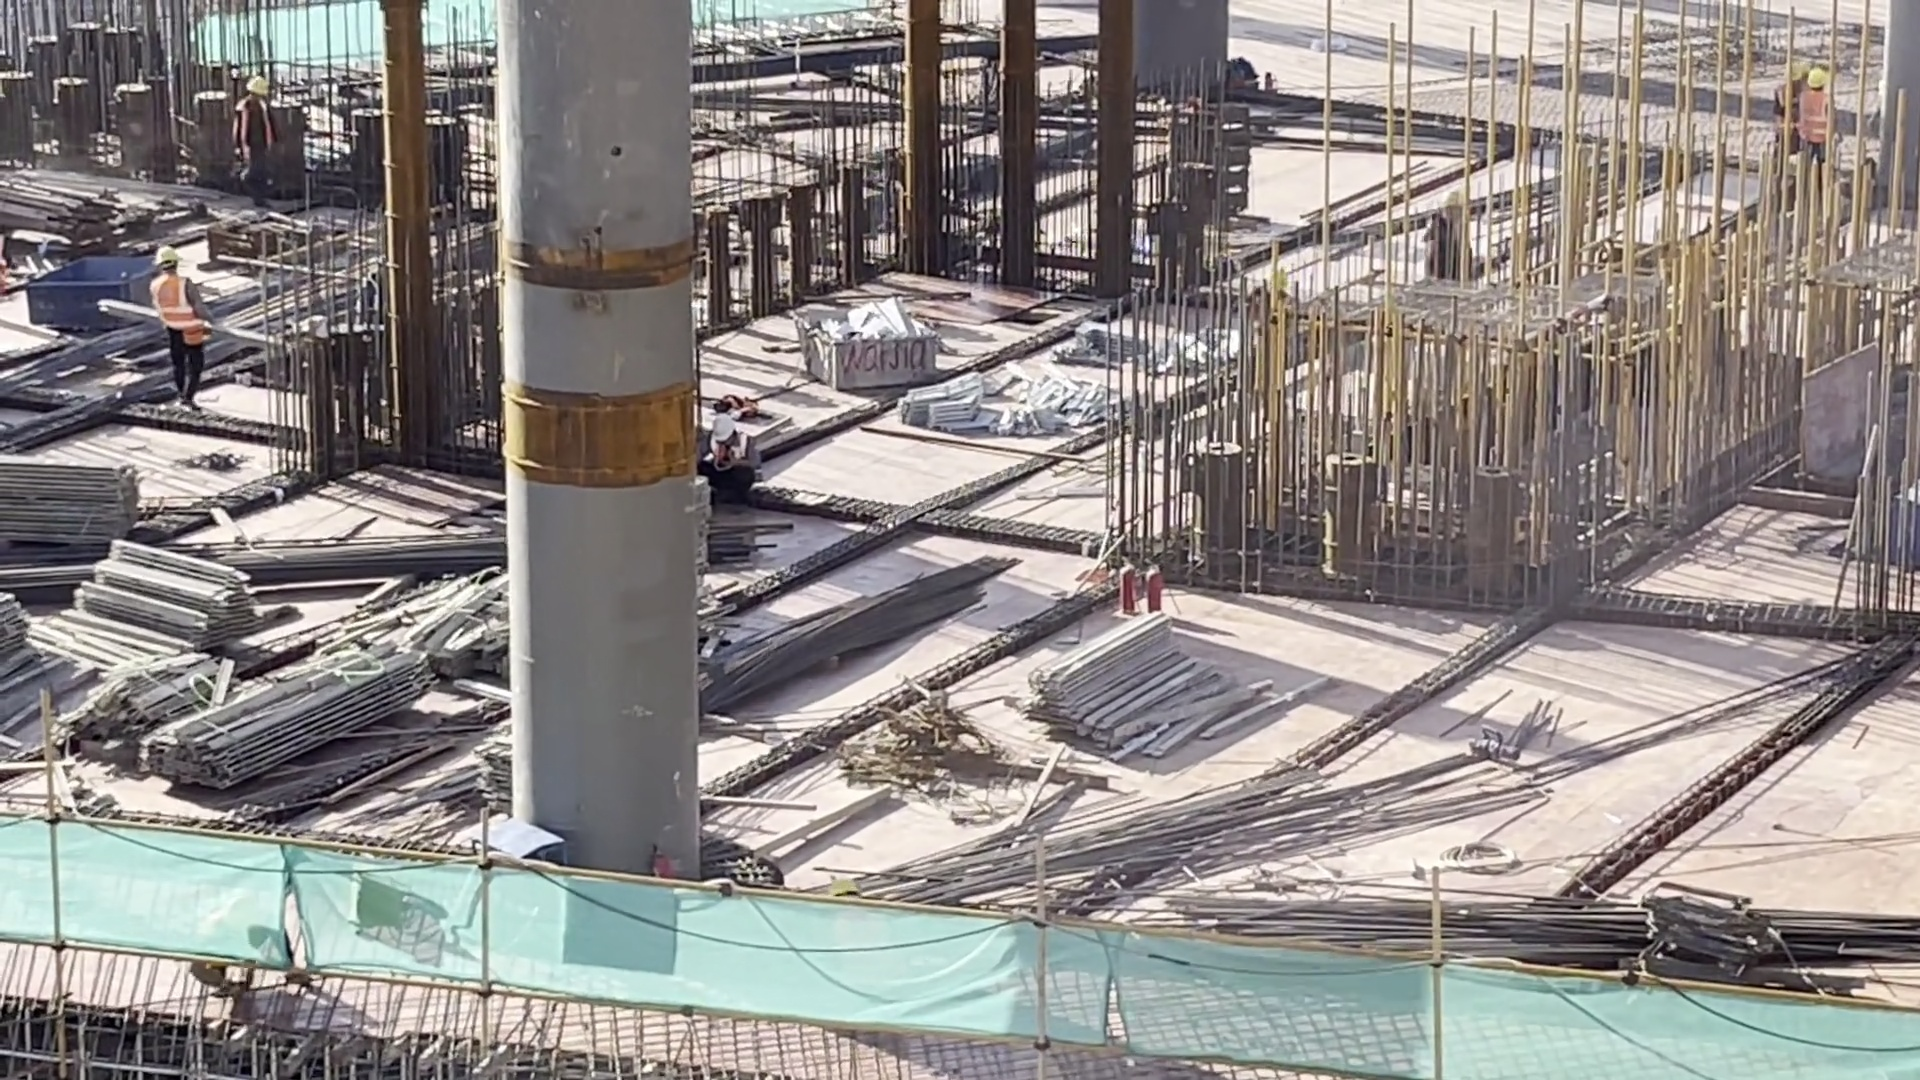helmet: (141, 232, 178, 268), (711, 412, 740, 442), (248, 65, 275, 94)
hopper: (793, 276, 948, 391), (21, 248, 164, 356)
person: (215, 61, 285, 195), (138, 241, 208, 374), (1785, 43, 1845, 165), (710, 401, 752, 491)
vest: (144, 279, 201, 346), (223, 98, 273, 158), (1801, 79, 1843, 146)
wood: (128, 639, 433, 791), (1025, 600, 1245, 758), (75, 528, 255, 668), (1, 450, 145, 574)
